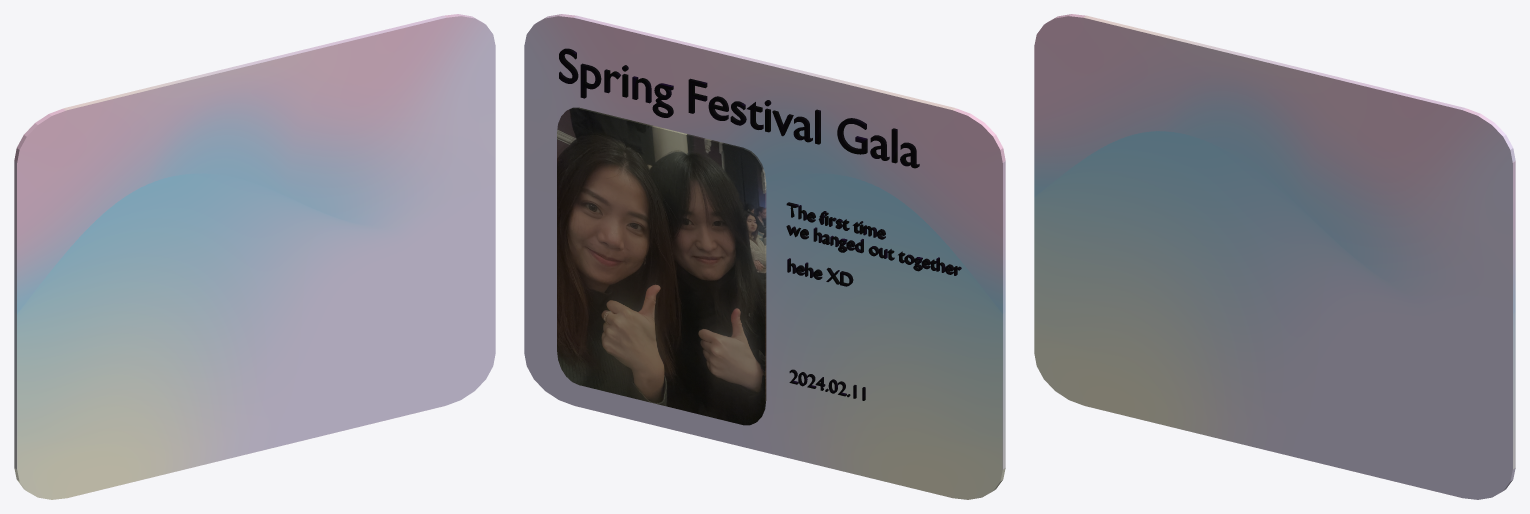
The model's file is Rakey_.fbx.
The picture shows the model from 3 angles, left to right: view 1: azimuth 30°, elevation 25°; view 2: azimuth 150°, elevation 25°; view 3: azimuth 330°, elevation 25°; orthographic projection.
Parts seen in each view (by area): view 1: Background; view 2: Background, Image, Title, Content, Time; view 3: Background.
Boxes of the visible parts, x1,y1,x2,y2 form: Background: (14, 14, 495, 499); Background: (524, 14, 1005, 499); Image: (557, 107, 766, 425); Title: (559, 48, 919, 168); Content: (786, 202, 961, 286); Time: (789, 369, 865, 400); Background: (1034, 14, 1515, 499).
Bounding box in the file's own units: 68.25 × 52.88 × 1.91.
Materials: 5 (5 with a texture image).
